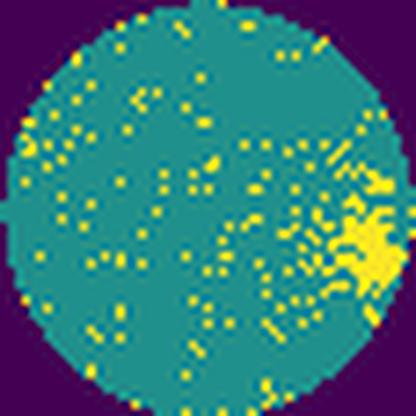Loc: (326, 202, 409, 301)
